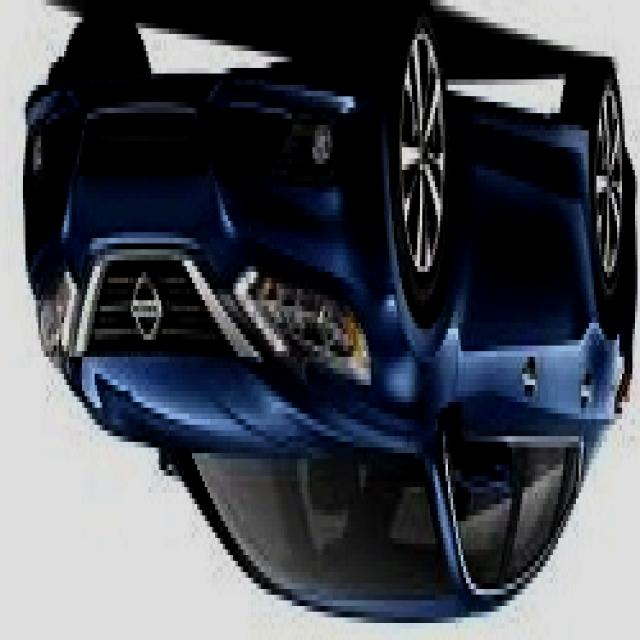blue: (20, 1, 639, 626)
